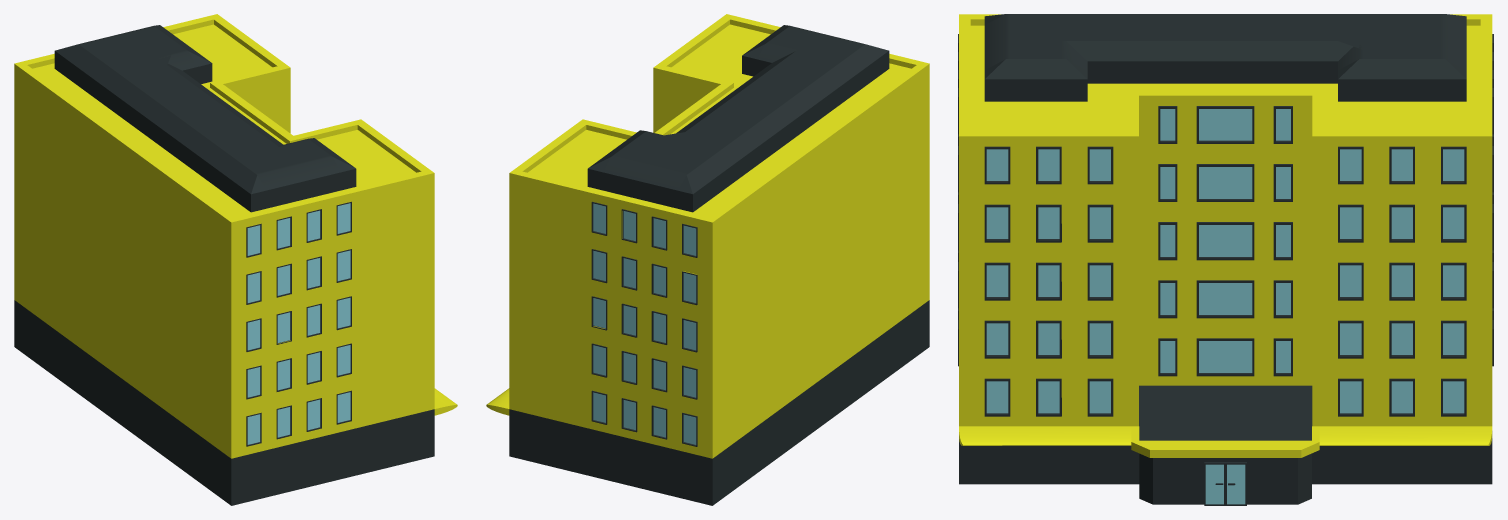
The model's file is block-of-flats.fbx.
The picture shows the model from 3 angles, left to right: view 1: azimuth 30°, elevation 25°; view 2: azimuth 150°, elevation 25°; view 3: azimuth 270°, elevation 25°; orthographic projection. The views are drawn at different scales.
Visible parts, largest first — view 1: Middle, Top, Bottom; view 2: Middle, Top, Bottom; view 3: Middle, Top, Bottom, Door.
Part boxes in pixels (x1=…): Middle: x1=14, y1=111, x2=434, y2=458; Top: x1=14, y1=14, x2=434, y2=269; Bottom: x1=14, y1=300, x2=457, y2=505; Middle: x1=509, y1=111, x2=929, y2=458; Top: x1=509, y1=14, x2=929, y2=269; Bottom: x1=486, y1=300, x2=929, y2=505; Middle: x1=958, y1=134, x2=1493, y2=426; Top: x1=958, y1=14, x2=1493, y2=194; Bottom: x1=959, y1=385, x2=1492, y2=504; Door: x1=1204, y1=462, x2=1246, y2=505.
Size of the model in its own units: 1612 by 1942 by 2511.
